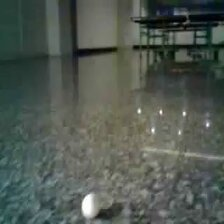w: (81, 193, 101, 220)
